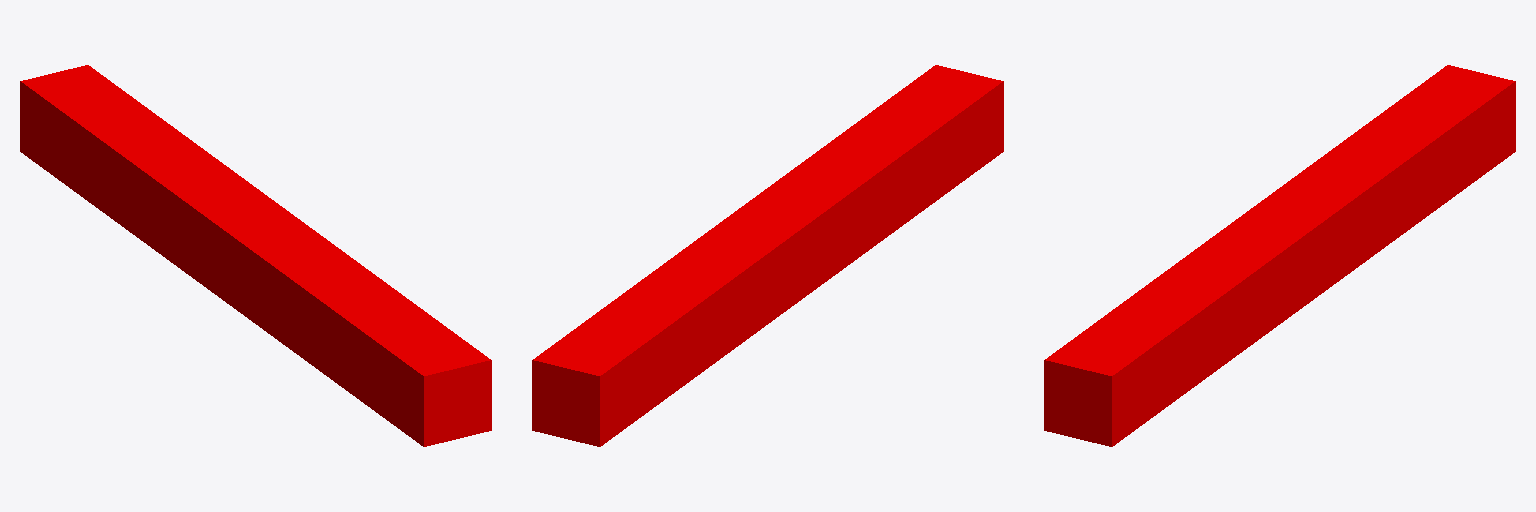
The robot description file, URDF, robot "bonus":
<?xml version="1.0"?>
<robot name="bonus">
    <link name="base">
        <inertial>
            <origin xyz="0.0 0.0 0.0" rpy="0.0 0.0 0.0"/>
            <mass value="0.0"/>
            <inertia ixx="0.0" ixy="0.0" ixz="0.0" iyy="0.0" iyz="0.0" izz="0.0"/>
        </inertial>
        <visual name="">
            <origin xyz="0.0 0.0 0.0" rpy="0.0 0.0 0.0"/>
            <geometry>
                <box size="0.6 6.2 0.6"/>
            </geometry>
            <material name="">
                <color rgba="1.0 0.0 0.0 0.8"/>
            </material>
        </visual>
        <collision>
            <origin xyz="0.0 0.0 0.0" rpy="0.0 0.0 0.0"/>
            <geometry>
                <box size="0.6 6.2 0.6"/>
            </geometry>
        </collision>
    </link>
</robot>

--- Render facts (derived) ---
Views: 3 orthographic renders of the robot side by side, from view 1: azimuth 30°, elevation 25°; view 2: azimuth 150°, elevation 25°; view 3: azimuth 330°, elevation 25°.
Robot: bonus — 1 links, 0 joints (none); root link base; default pose: all joints at 0.
Links seen in each view (by area): view 1: base; view 2: base; view 3: base.
Boxes of the visible links, bbox=[...] form: base: bbox=[20, 65, 491, 446]; base: bbox=[532, 65, 1003, 446]; base: bbox=[1044, 65, 1515, 446].
Size in the robot's own frame: 0.6 by 6.2 by 0.6 metres.
Geometry: primitives only (box / cylinder / sphere), no mesh files.